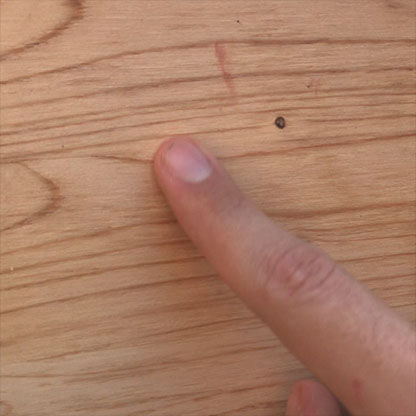fingertip: (143, 123, 224, 200)
